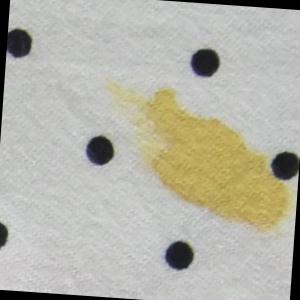Oil Stain: (96, 70, 300, 240)
